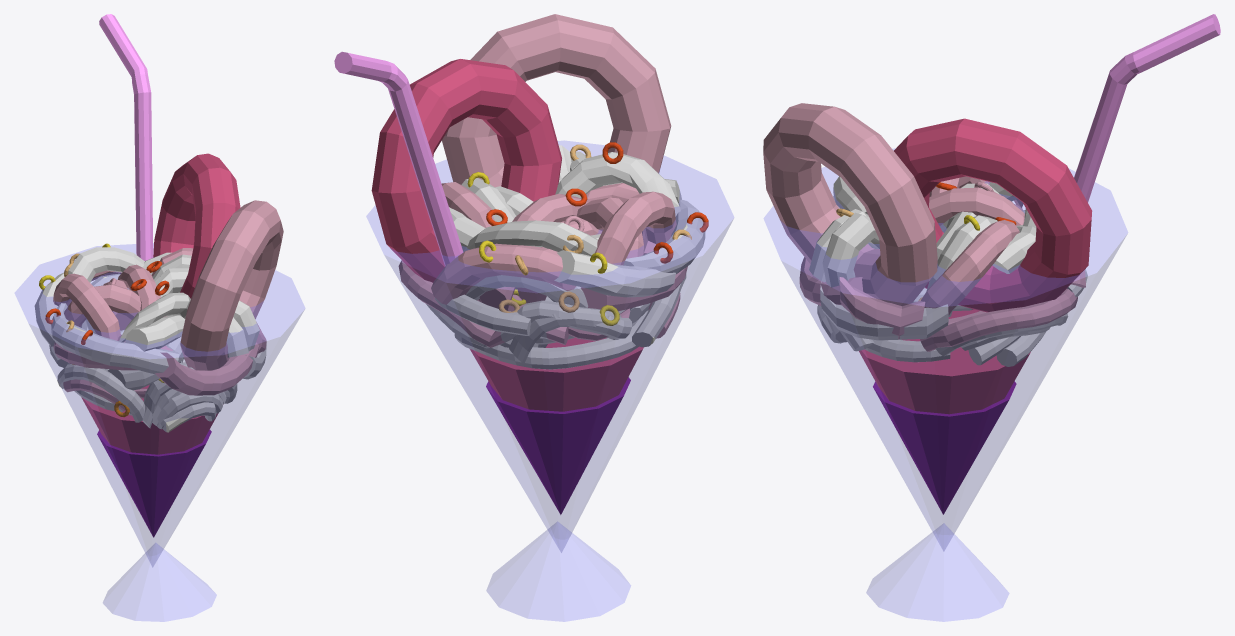
The picture shows the model from 3 angles, left to right: view 1: azimuth 30°, elevation 25°; view 2: azimuth 150°, elevation 25°; view 3: azimuth 270°, elevation 25°; orthographic projection. The views are drawn at different scales.
Parts seen in each view (by area): view 1: node_MeshObject395639808-PolyGlass24, node_MeshObject-1038931968-PolyPaper14, node_MeshObject-466852864-PolyPaper21, node_MeshObject1539798016-PolyGem25, node_MeshObject967718912-PolyPaper9; view 2: node_MeshObject-1038931968-PolyPaper14, node_MeshObject395639808-PolyGlass24, node_MeshObject-466852864-PolyPaper21, node_MeshObject967718912-PolyPaper9, node_MeshObject1539798016-PolyGem25, node_MeshObject-1611011072-PolyPaper12; view 3: node_MeshObject395639808-PolyGlass24, node_MeshObject-1038931968-PolyPaper14, node_MeshObject-466852864-PolyPaper21, node_MeshObject967718912-PolyPaper9, node_MeshObject1539798016-PolyGem25, node_MeshObject-1611011072-PolyPaper12.
Part boxes in pixels (box(x1,y1,x2,y2)): node_MeshObject395639808-PolyGlass24: box(15, 243, 305, 621); node_MeshObject-1038931968-PolyPaper14: box(34, 153, 283, 537); node_MeshObject-466852864-PolyPaper21: box(39, 263, 266, 432); node_MeshObject1539798016-PolyGem25: box(99, 14, 153, 260); node_MeshObject967718912-PolyPaper9: box(81, 385, 218, 454); node_MeshObject-1038931968-PolyPaper14: box(371, 14, 676, 514); node_MeshObject395639808-PolyGlass24: box(366, 140, 733, 621); node_MeshObject-466852864-PolyPaper21: box(426, 142, 708, 369); node_MeshObject967718912-PolyPaper9: box(470, 327, 643, 411); node_MeshObject1539798016-PolyGem25: box(334, 51, 463, 266); node_MeshObject-1611011072-PolyPaper12: box(441, 182, 494, 227); node_MeshObject395639808-PolyGlass24: box(764, 148, 1127, 621); node_MeshObject-1038931968-PolyPaper14: box(763, 103, 1092, 514); node_MeshObject-466852864-PolyPaper21: box(799, 176, 1087, 366); node_MeshObject967718912-PolyPaper9: box(859, 309, 1030, 414); node_MeshObject1539798016-PolyGem25: box(1074, 14, 1220, 202); node_MeshObject-1611011072-PolyPaper12: box(921, 220, 1019, 315).
Bounding box in the file's own units: 0.3289 × 0.6135 × 0.4125.
